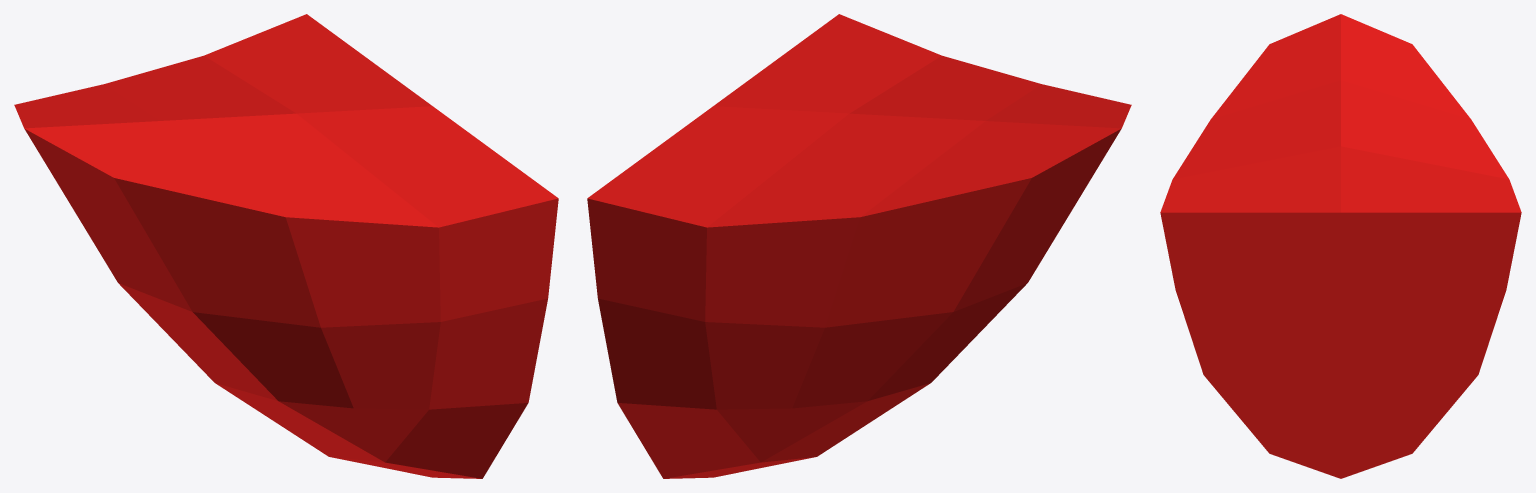
File: HealthLD.fbx
The picture shows the model from 3 angles, left to right: view 1: azimuth 30°, elevation 25°; view 2: azimuth 150°, elevation 25°; view 3: azimuth 270°, elevation 25°; orthographic projection. The views are drawn at different scales.
Visible parts, largest first — view 1: Health.LD; view 2: Health.LD; view 3: Health.LD.
Boxes of the visible parts, left/top/right/bottom form: Health.LD: left=14, top=14, right=558, bottom=478; Health.LD: left=587, top=14, right=1131, bottom=478; Health.LD: left=1160, top=14, right=1521, bottom=478.
Bounding box in the file's own units: 19.8 × 20.79 × 21.15.
